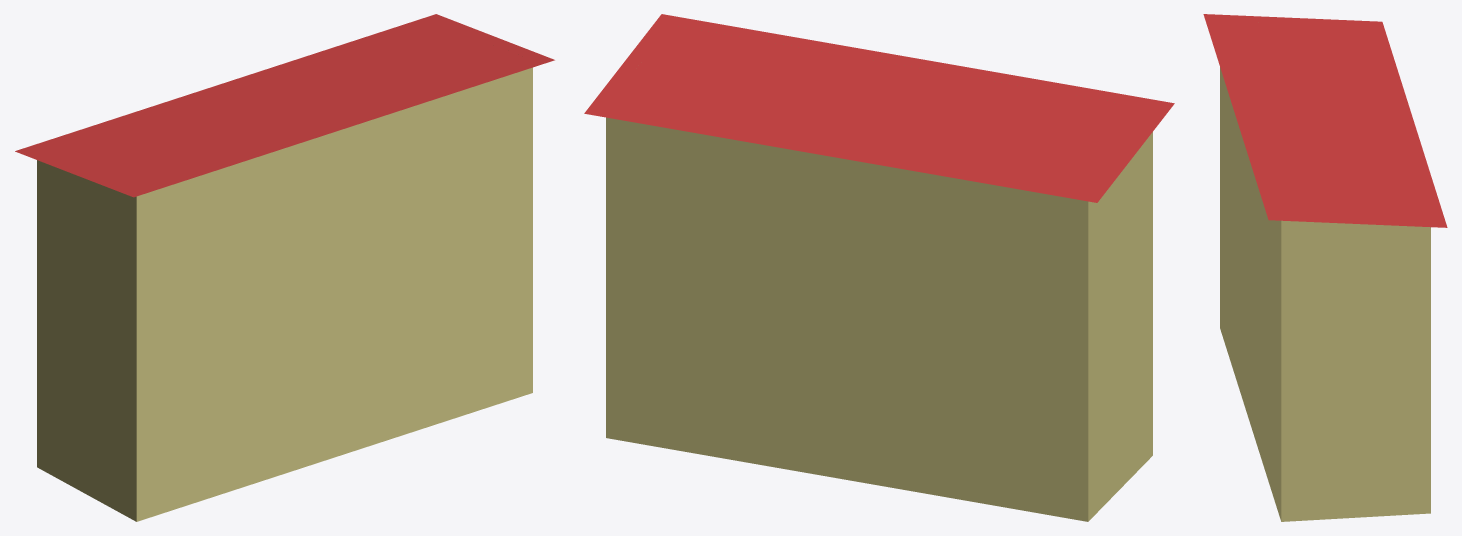
3 renders of one model, left to right at view 1: azimuth 30°, elevation 25°; view 2: azimuth 150°, elevation 25°; view 3: azimuth 270°, elevation 25°, orthographic. The views are drawn at different scales.
Bounding box in the file's own units: 8.62 × 4.11 × 5.73.
